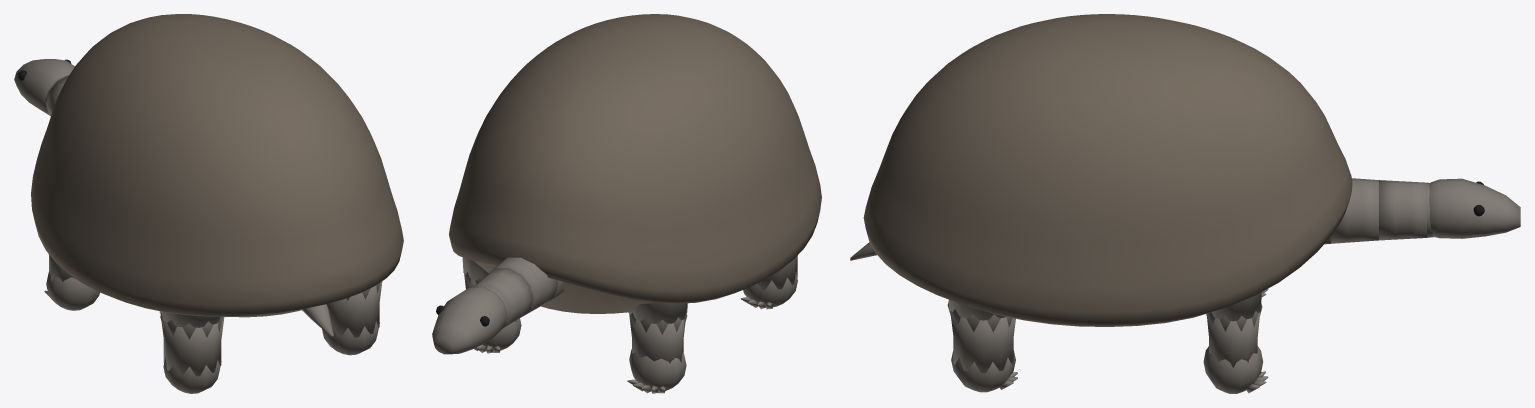
The model's file is tortoise.glb.
The picture shows the model from 3 angles, left to right: view 1: azimuth 30°, elevation 25°; view 2: azimuth 150°, elevation 25°; view 3: azimuth 270°, elevation 25°; orthographic projection. The views are drawn at different scales.
Parts seen in each view (by area): view 1: TortShell, TortShinBL, TortShinBR, TortHead, TortShinFL, TortLegBL, TortBody, TortNeck3; view 2: TortShell, TortHead, TortShinFL, TortNeck3, TortShinBL, TortNeck2, TortLegFL, TortShinFR, TortLegFR; view 3: TortShell, TortHead, TortShinBR, TortShinFR, TortNeck3, TortNeck2, TortLegFR, TortLegBR.
Part boxes in pixels (x1=…): TortShell: x1=31, y1=14, x2=403, y2=317; TortShinBL: x1=161, y1=317, x2=224, y2=393; TortShinBR: x1=322, y1=281, x2=382, y2=355; TortHead: x1=14, y1=59, x2=74, y2=116; TortShinFL: x1=44, y1=254, x2=99, y2=310; TortLegBL: x1=159, y1=311, x2=223, y2=339; TortBody: x1=301, y1=304, x2=333, y2=337; TortNeck3: x1=45, y1=74, x2=69, y2=115; TortShell: x1=449, y1=14, x2=821, y2=313; TortHead: x1=432, y1=287, x2=507, y2=354; TortShinFL: x1=627, y1=314, x2=686, y2=393; TortNeck3: x1=473, y1=268, x2=533, y2=328; TortShinBL: x1=741, y1=256, x2=797, y2=309; TortNeck2: x1=489, y1=257, x2=558, y2=316; TortLegFL: x1=628, y1=302, x2=687, y2=334; TortShinFR: x1=464, y1=273, x2=521, y2=353; TortLegFR: x1=462, y1=257, x2=488, y2=286; TortShell: x1=863, y1=14, x2=1352, y2=326; TortHead: x1=1429, y1=178, x2=1520, y2=238; TortShinBR: x1=950, y1=311, x2=1017, y2=392; TortShinFR: x1=1203, y1=312, x2=1268, y2=393; TortNeck3: x1=1379, y1=180, x2=1433, y2=240; TortNeck2: x1=1331, y1=178, x2=1378, y2=243; TortLegFR: x1=1206, y1=292, x2=1262, y2=331; TortLegBR: x1=947, y1=299, x2=1012, y2=331.
Bounding box in the file's own units: 0.903 × 0.833 × 1.61.
